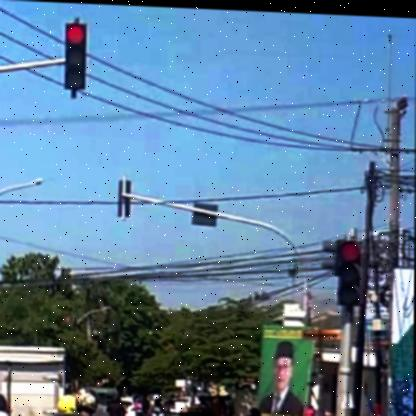Traffic Light -Red-: (338, 238, 363, 302), (65, 22, 86, 90)
